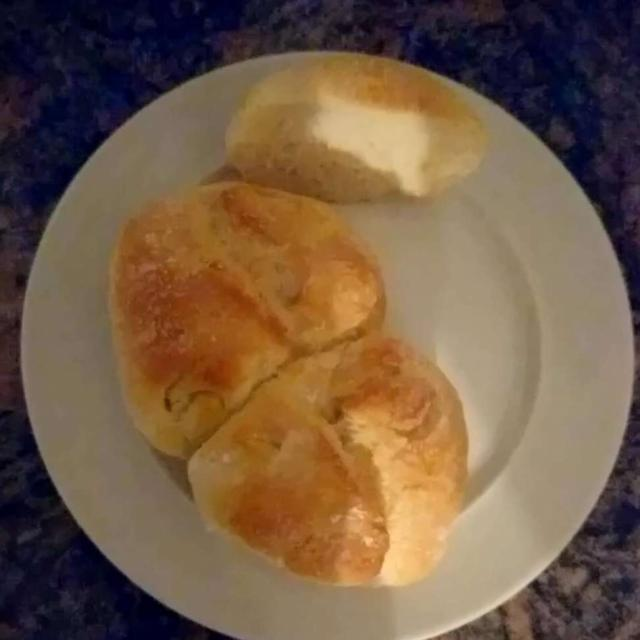bread: (101, 58, 498, 581)
